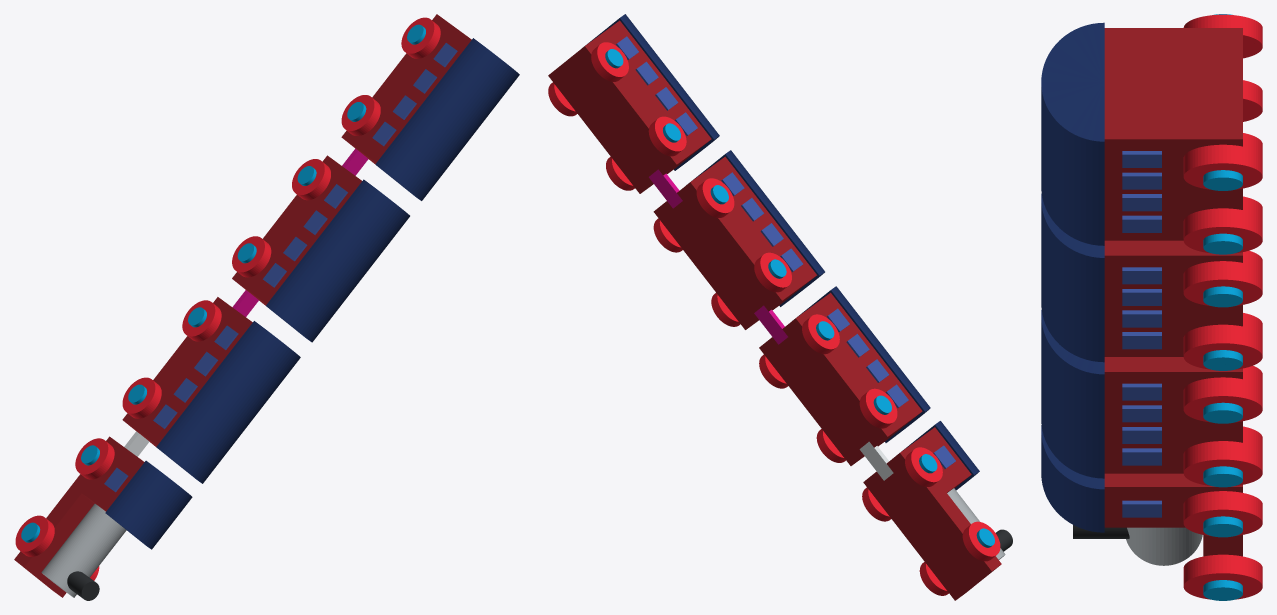
The model's file is tinker.obj.
The picture shows the model from 3 angles, left to right: view 1: azimuth 30°, elevation 25°; view 2: azimuth 150°, elevation 25°; view 3: azimuth 270°, elevation 25°; orthographic projection. The views are drawn at different scales.
Parts seen in each view (by area): view 1: group_0_1650274, group_0_9771553, group_0_15277357, group_0_3888547, group_0_10988977, group_0_40919, group_0_14093196, group_0_2829873; view 2: group_0_9771553, group_0_15277357, group_0_1650274, group_0_3888547, group_0_40919, group_0_14093196; view 3: group_0_9771553, group_0_1650274, group_0_15277357, group_0_3888547, group_0_40919, group_0_10988977, group_0_2829873.
Boxes of the visible parts, x1,y1,x2,y2 form: group_0_1650274: [105, 38, 519, 549]; group_0_9771553: [14, 14, 471, 597]; group_0_15277357: [15, 17, 440, 580]; group_0_3888547: [104, 43, 457, 492]; group_0_10988977: [41, 504, 126, 597]; group_0_40919: [21, 24, 425, 542]; group_0_14093196: [232, 148, 368, 316]; group_0_2829873: [67, 571, 99, 600]; group_0_9771553: [548, 20, 1001, 600]; group_0_15277357: [548, 42, 1000, 595]; group_0_1650274: [585, 14, 979, 490]; group_0_3888547: [616, 36, 955, 468]; group_0_40919: [605, 49, 994, 547]; group_0_14093196: [649, 169, 787, 344]; group_0_9771553: [1104, 28, 1242, 556]; group_0_1650274: [1041, 22, 1104, 532]; group_0_15277357: [1183, 14, 1262, 599]; group_0_3888547: [1122, 151, 1161, 517]; group_0_40919: [1203, 14, 1242, 600]; group_0_10988977: [1126, 527, 1202, 565]; group_0_2829873: [1073, 525, 1129, 538].
Size of the model in its own units: 138 by 138 by 30.
